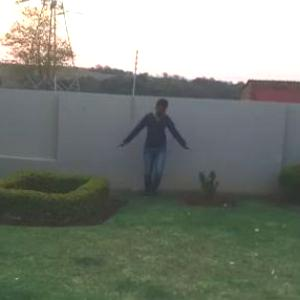land: (114, 90, 196, 205)
